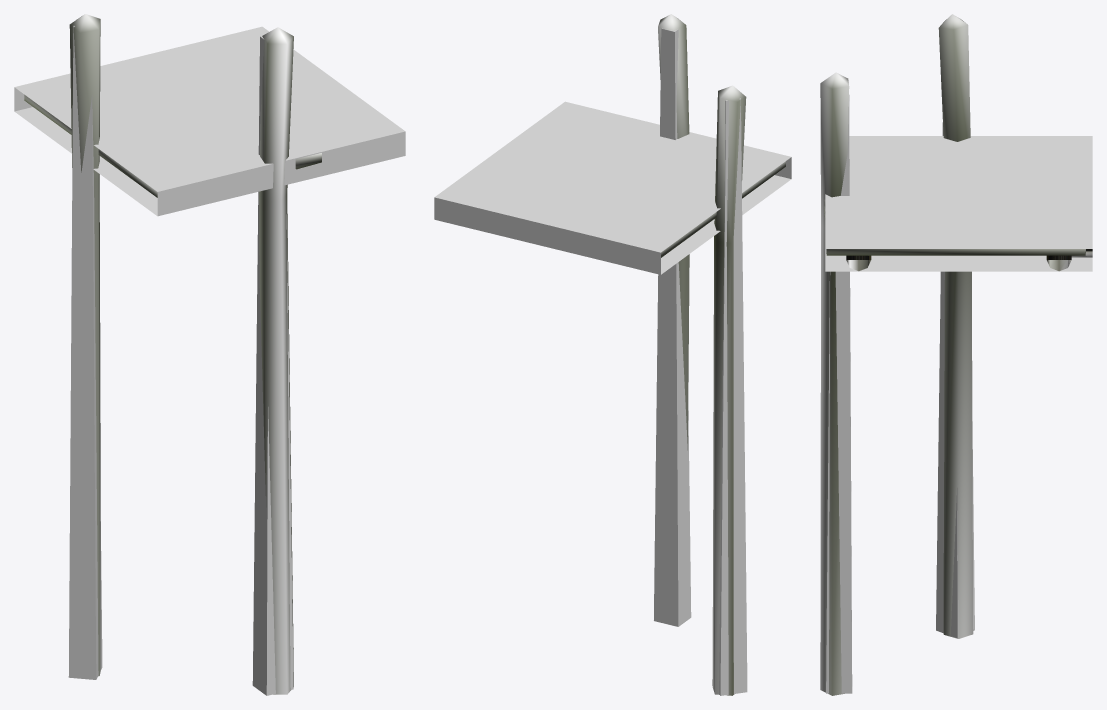
Rendered from ex_common_plat_corn.dae.
The picture shows the model from 3 angles, left to right: view 1: azimuth 30°, elevation 25°; view 2: azimuth 150°, elevation 25°; view 3: azimuth 270°, elevation 25°; orthographic projection. The views are drawn at different scales.
Parts seen in each view (by area): view 1: nifid_27-matrix, nifid_14-matrix, nifid_25-matrix, nifid_23-matrix, nifid_10-matrix; view 2: nifid_27-matrix, nifid_14-matrix, nifid_23-matrix, nifid_25-matrix, nifid_10-matrix; view 3: nifid_27-matrix, nifid_14-matrix, nifid_23-matrix, nifid_25-matrix, nifid_10-matrix, nifid_6-matrix.
Boxes of the visible parts, x1,y1,x2,y2 form: nifid_27-matrix: [14, 26, 405, 216]; nifid_14-matrix: [24, 20, 316, 694]; nifid_25-matrix: [68, 19, 102, 679]; nifid_23-matrix: [252, 36, 293, 695]; nifid_10-matrix: [70, 14, 293, 43]; nifid_27-matrix: [434, 101, 791, 274]; nifid_14-matrix: [658, 25, 785, 695]; nifid_23-matrix: [654, 28, 691, 626]; nifid_25-matrix: [712, 98, 747, 695]; nifid_10-matrix: [658, 14, 745, 101]; nifid_27-matrix: [825, 136, 1092, 271]; nifid_14-matrix: [820, 25, 1085, 695]; nifid_23-matrix: [826, 78, 852, 693]; nifid_25-matrix: [936, 23, 974, 638]; nifid_10-matrix: [821, 14, 967, 88]; nifid_6-matrix: [846, 251, 1092, 271].
Bounding box in the file's own units: 277 × 261 × 653.
Materials: 2 (1 with a texture image).
